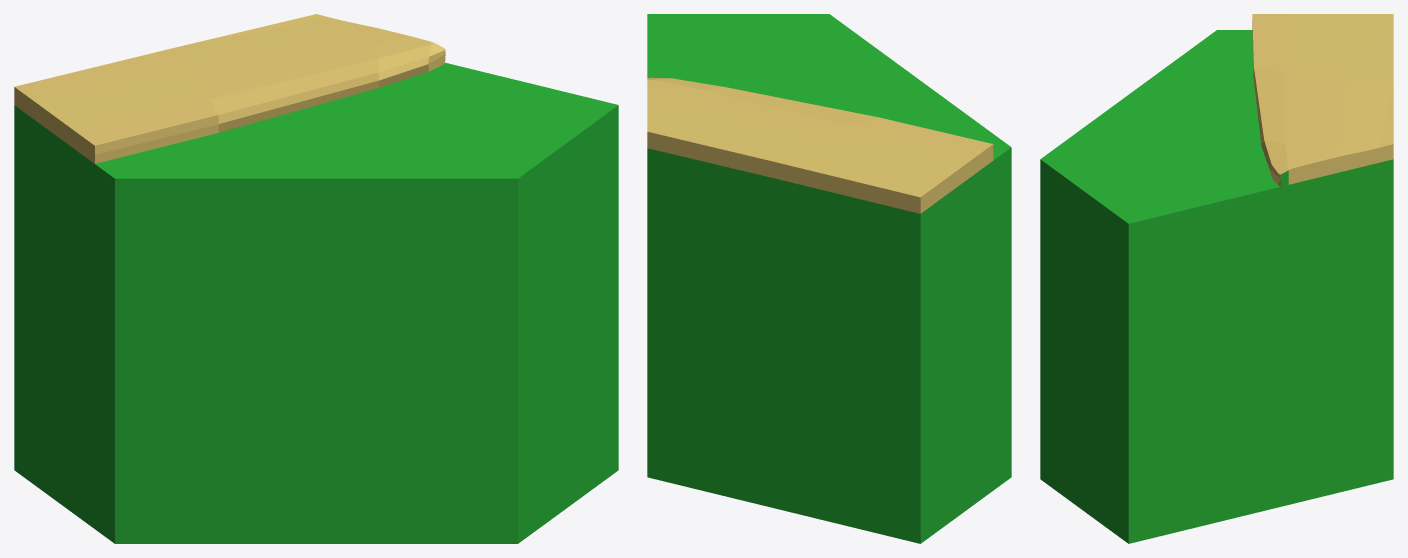
File: module-corner_land_path_end_001.glb
3 renders of one model, left to right at view 1: azimuth 30°, elevation 25°; view 2: azimuth 150°, elevation 25°; view 3: azimuth 270°, elevation 25°, orthographic. The views are drawn at different scales.
Visible parts, largest first — view 1: module-corner_land_path_end_001; view 2: module-corner_land_path_end_001; view 3: module-corner_land_path_end_001.
Boxes of the visible parts, x1,y1,x2,y2 form: module-corner_land_path_end_001: (14,14,618,543); module-corner_land_path_end_001: (647,14,1011,543); module-corner_land_path_end_001: (1040,14,1393,543).
Bounding box in the file's own units: 0.6495 × 0.525 × 0.5.
